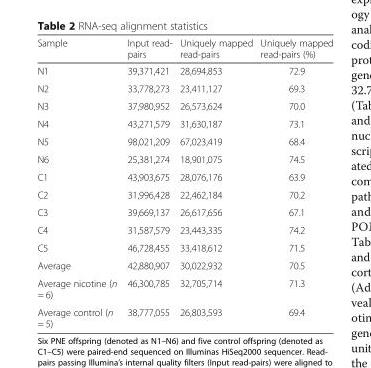table: (36, 36, 332, 328)
table column: (36, 36, 121, 328), (175, 36, 255, 328), (255, 36, 332, 328), (121, 36, 175, 328)
table column header: (36, 36, 332, 62)
table row: (36, 273, 332, 303), (36, 36, 332, 62), (36, 303, 332, 328), (36, 96, 332, 114), (36, 114, 332, 132), (36, 132, 332, 150), (36, 167, 332, 185), (36, 185, 332, 203), (36, 220, 332, 238), (36, 238, 332, 256), (36, 62, 332, 79), (36, 79, 332, 96), (36, 150, 332, 167), (36, 203, 332, 220), (36, 256, 332, 273)
